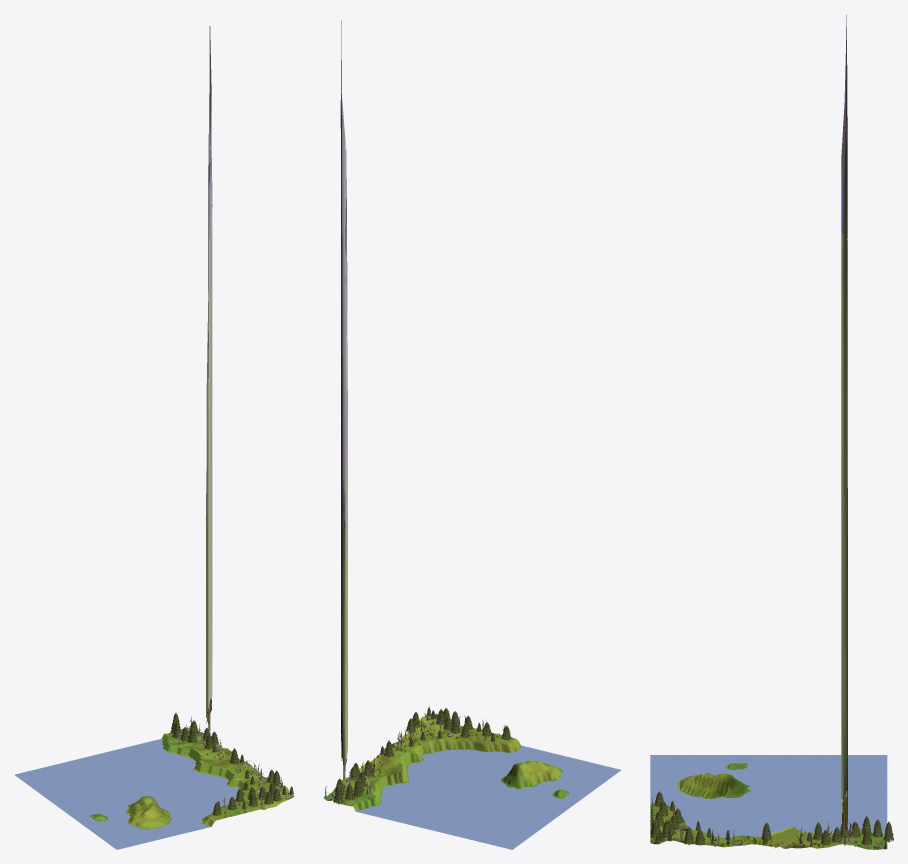
3 views of the same model, side by side, from view 1: azimuth 30°, elevation 25°; view 2: azimuth 150°, elevation 25°; view 3: azimuth 270°, elevation 25° (orthographic). The views are drawn at different scales.
Visible parts, largest first — view 1: region_0_0_8497; view 2: region_0_0_8497; view 3: region_0_0_8497.
Boxes of the visible parts, x1,y1,x2,y2 form: region_0_0_8497: (14, 26, 294, 849); region_0_0_8497: (323, 20, 621, 849); region_0_0_8497: (650, 14, 893, 849).
Bounding box in the file's own units: 64.92 × 251 × 65.88.
3 materials, 2 textured.
